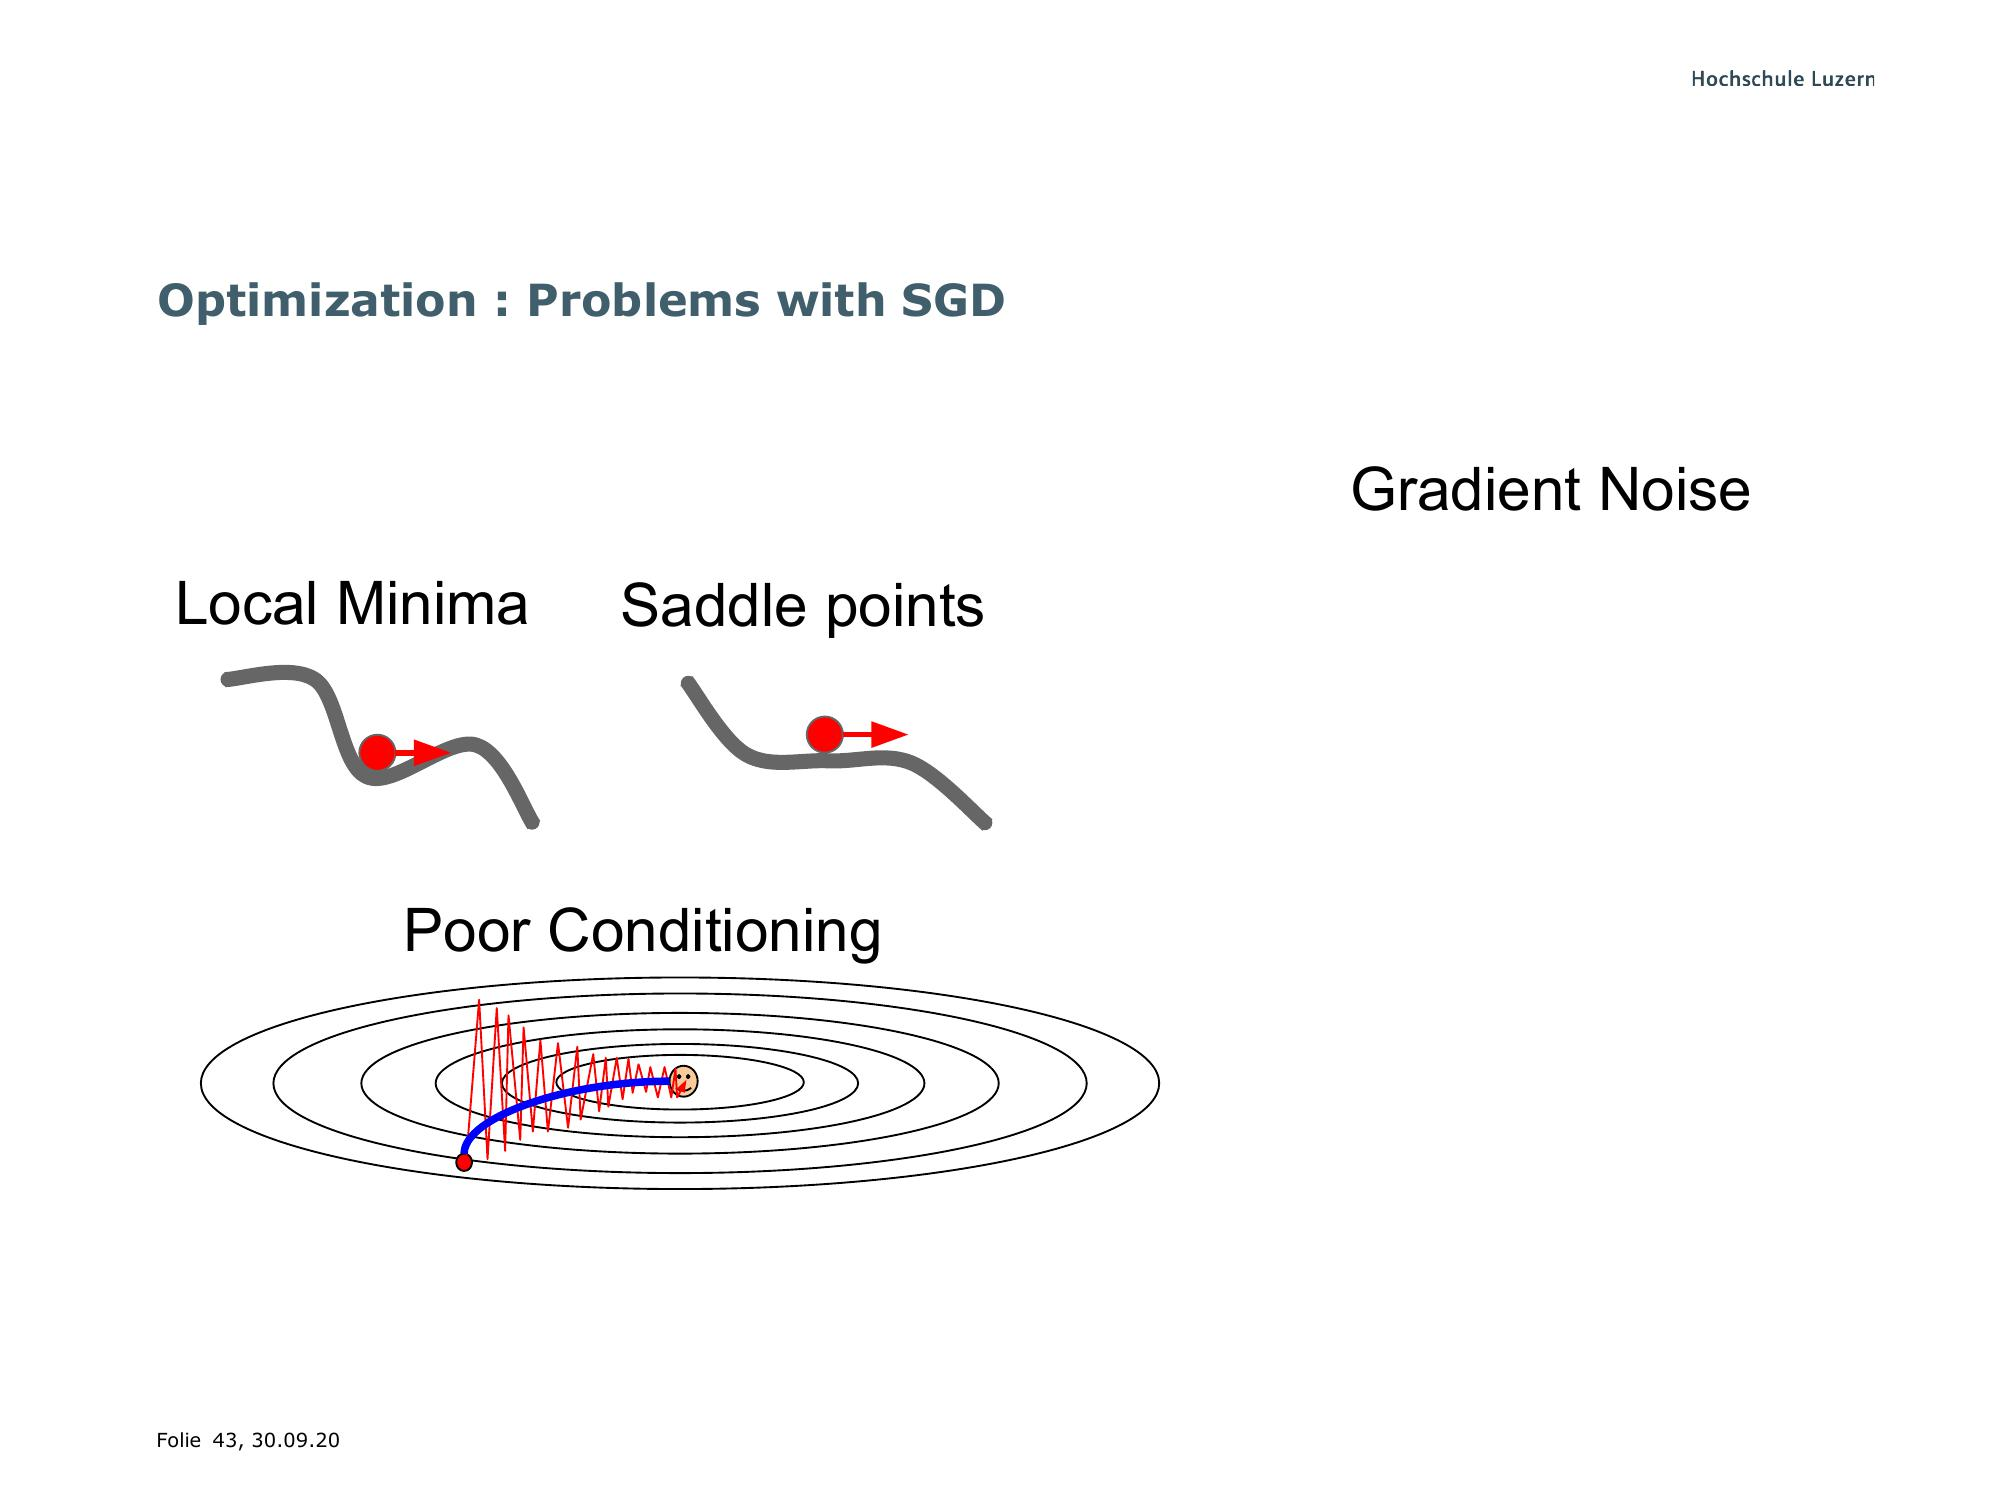Title: (82, 238, 1047, 343)
